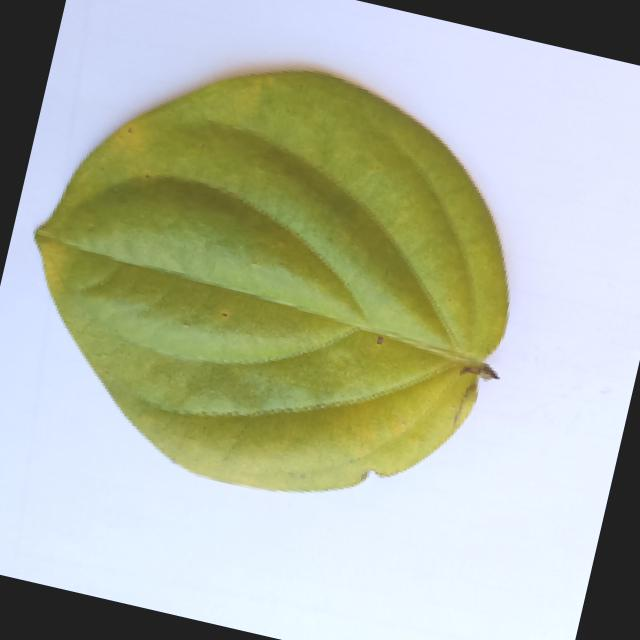slow-decline: (0, 13, 553, 531)
